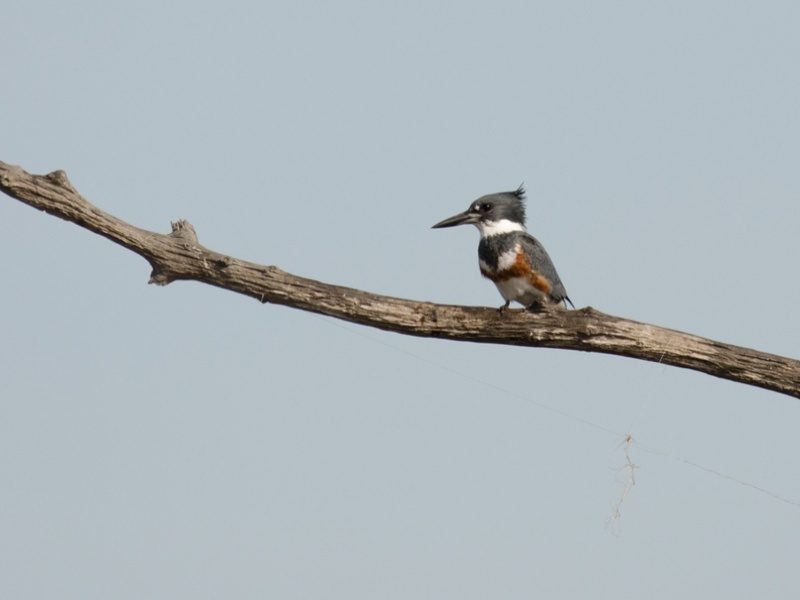kingfisher: (430, 185, 579, 318)
